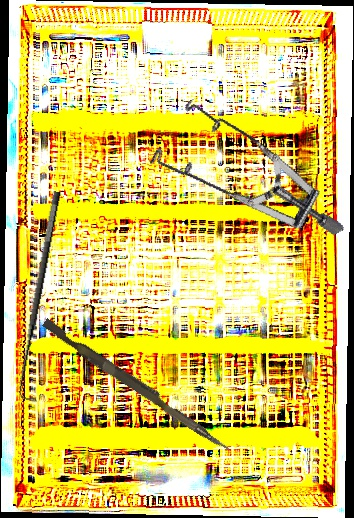Hook Surgical: (10, 190, 77, 403)
Pusher: (38, 318, 236, 453)
Speculum: (133, 64, 345, 294)
